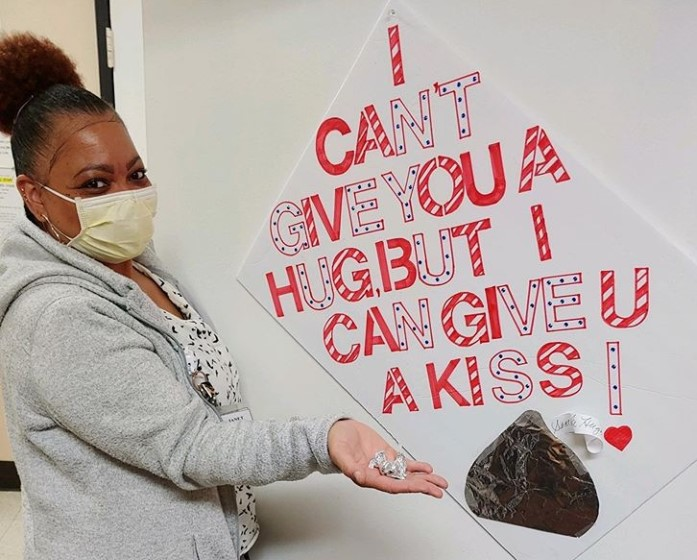face_with_mask: (16, 88, 157, 264)
